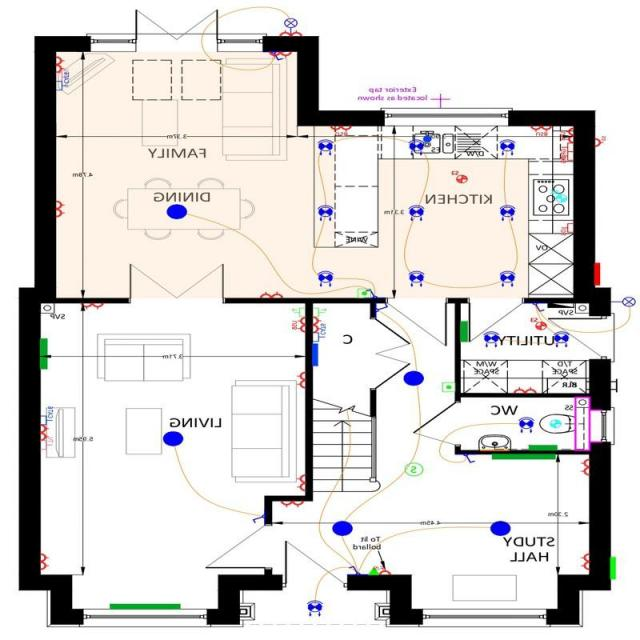BT Entry Point: (366, 566, 379, 576)
Cat 6 Data Socket: (311, 328, 333, 342), (53, 79, 72, 92), (38, 411, 56, 424)
Ceiling Mounted Continuous Extract Fan With Boost Mode Activated By Light Switch: (546, 414, 563, 433)
Ceiling Mounted Continuous Extract Fan With Local Boost Switch: (525, 314, 552, 337), (448, 164, 470, 191)
Co-Ax TV Socket: (38, 438, 56, 453), (53, 70, 72, 80)
Consumer Unit: (546, 298, 578, 312)
Double Socket: (572, 542, 590, 578), (288, 468, 306, 498), (292, 361, 306, 395), (255, 286, 289, 300), (78, 298, 104, 314), (38, 423, 59, 442), (54, 194, 68, 220), (38, 552, 56, 572), (310, 314, 332, 330), (52, 52, 70, 70), (275, 498, 305, 508), (264, 50, 294, 60), (581, 454, 594, 477), (510, 386, 539, 394), (280, 26, 302, 36)
Electric Meter Box: (593, 257, 607, 287), (594, 134, 610, 154)
External Wall Light: (611, 292, 636, 310), (282, 12, 297, 35)
Fused spur: (378, 562, 391, 574)
Gas Meter Box: (607, 550, 619, 582)
Grid Switch: (558, 142, 573, 150)
Hob Switch: (556, 150, 574, 164)
Light Switch: (458, 449, 476, 470), (250, 508, 266, 526), (374, 300, 390, 318), (344, 560, 364, 574), (529, 302, 546, 315), (363, 286, 379, 299), (271, 49, 284, 62)
Low Energy Downlighter: (404, 266, 434, 298), (493, 262, 518, 296), (298, 594, 329, 617), (514, 409, 538, 437), (494, 133, 516, 163), (550, 326, 576, 351), (312, 265, 336, 290), (312, 200, 338, 222), (312, 136, 336, 159), (481, 327, 505, 349), (405, 201, 427, 224), (406, 135, 426, 160), (497, 198, 516, 224)
Low Energy Pendant Light: (156, 424, 190, 450), (488, 512, 514, 538), (160, 200, 193, 219), (332, 513, 354, 540), (402, 366, 426, 390)
Mains Wired Smoke Detector: (399, 458, 423, 478)
Outside Tap: (428, 90, 452, 106)
Oven Switch: (559, 220, 574, 238)
Programmable Room Thermostat: (438, 378, 456, 399), (353, 282, 372, 299)
Radiator: (100, 596, 185, 614), (488, 449, 558, 466), (39, 336, 55, 373), (455, 314, 474, 345), (525, 440, 559, 450)
Recirculating Extractor Fan: (550, 183, 566, 208)
Telephone Socket: (311, 304, 334, 318), (287, 304, 308, 314)
USB Double Socket: (526, 120, 553, 138), (324, 125, 358, 138), (289, 315, 308, 334), (559, 126, 576, 142)
Underfloor Heating Manifold: (308, 340, 325, 366)
Water Entry Position: (421, 126, 436, 144)
